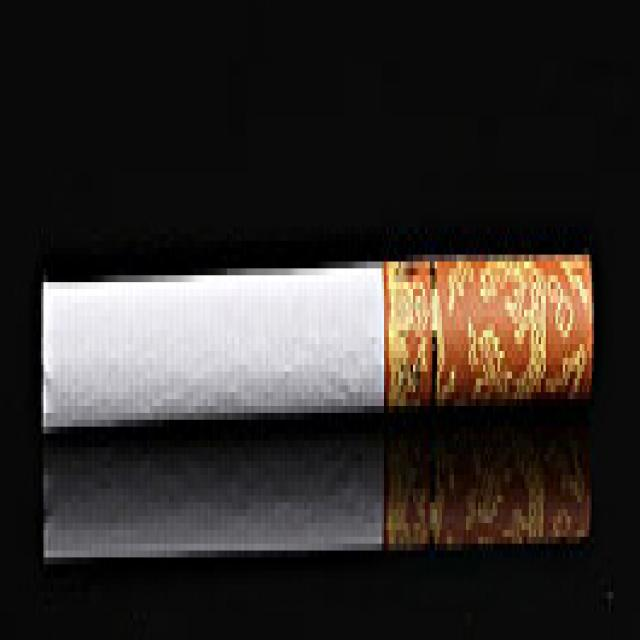smoking: (39, 247, 594, 435), (36, 443, 594, 564)
